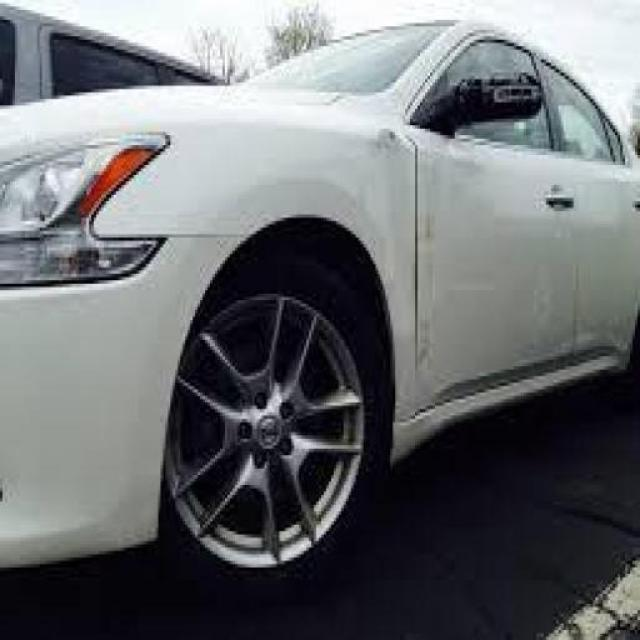dent: (351, 119, 443, 371)
